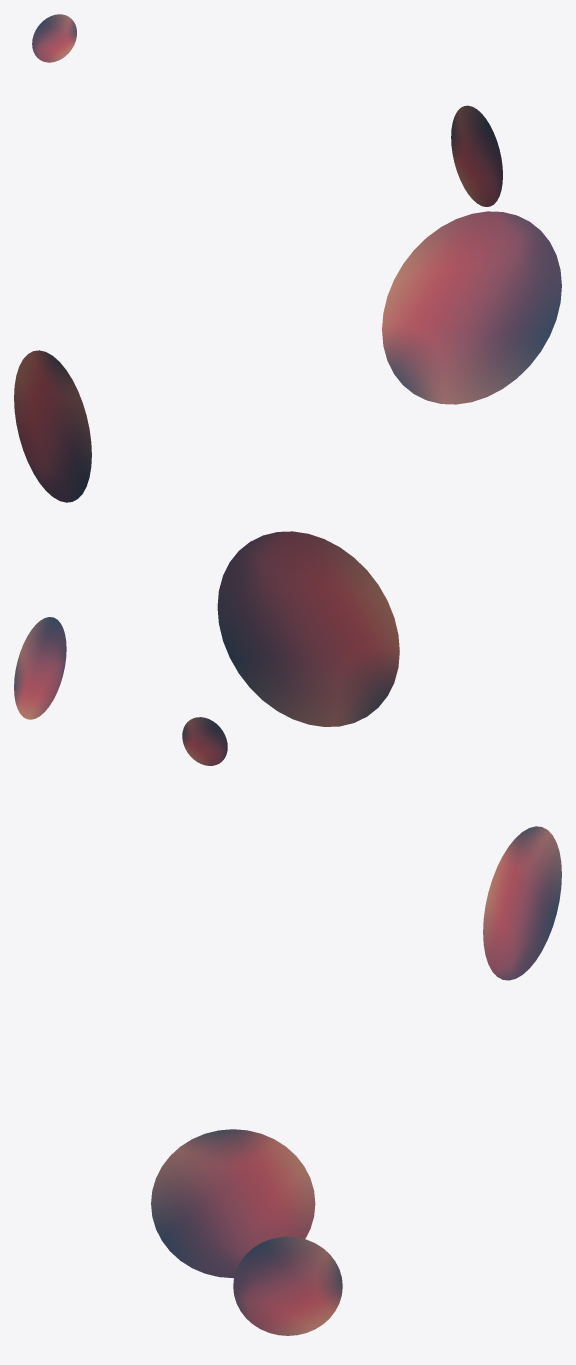
Rendered from Holes_disc.fbx.
3 views of the same model, one above another, from view 1: azimuth 30°, elevation 25°; view 2: azimuth 150°, elevation 25°; view 3: azimuth 270°, elevation 25° (orthographic). The views are drawn at different scales.
Parts seen in each view (by area): view 1: Disc_3, Disc_2, Disc, Disc_4; view 2: Disc_3, Disc_2, Disc, Disc_4; view 3: Disc_2, Disc.
Part boxes in pixels (x1,y1,x2,y2): Disc_3: [382, 211, 561, 404]; Disc_2: [14, 350, 91, 502]; Disc: [451, 105, 502, 206]; Disc_4: [32, 14, 76, 62]; Disc_3: [217, 531, 399, 726]; Disc_2: [483, 826, 561, 980]; Disc: [14, 617, 66, 719]; Disc_4: [182, 717, 227, 765]; Disc_2: [151, 1129, 315, 1278]; Disc: [233, 1236, 342, 1335].
Size of the model in its own units: 100 by 70 by 100.
1 material, 1 textured.
